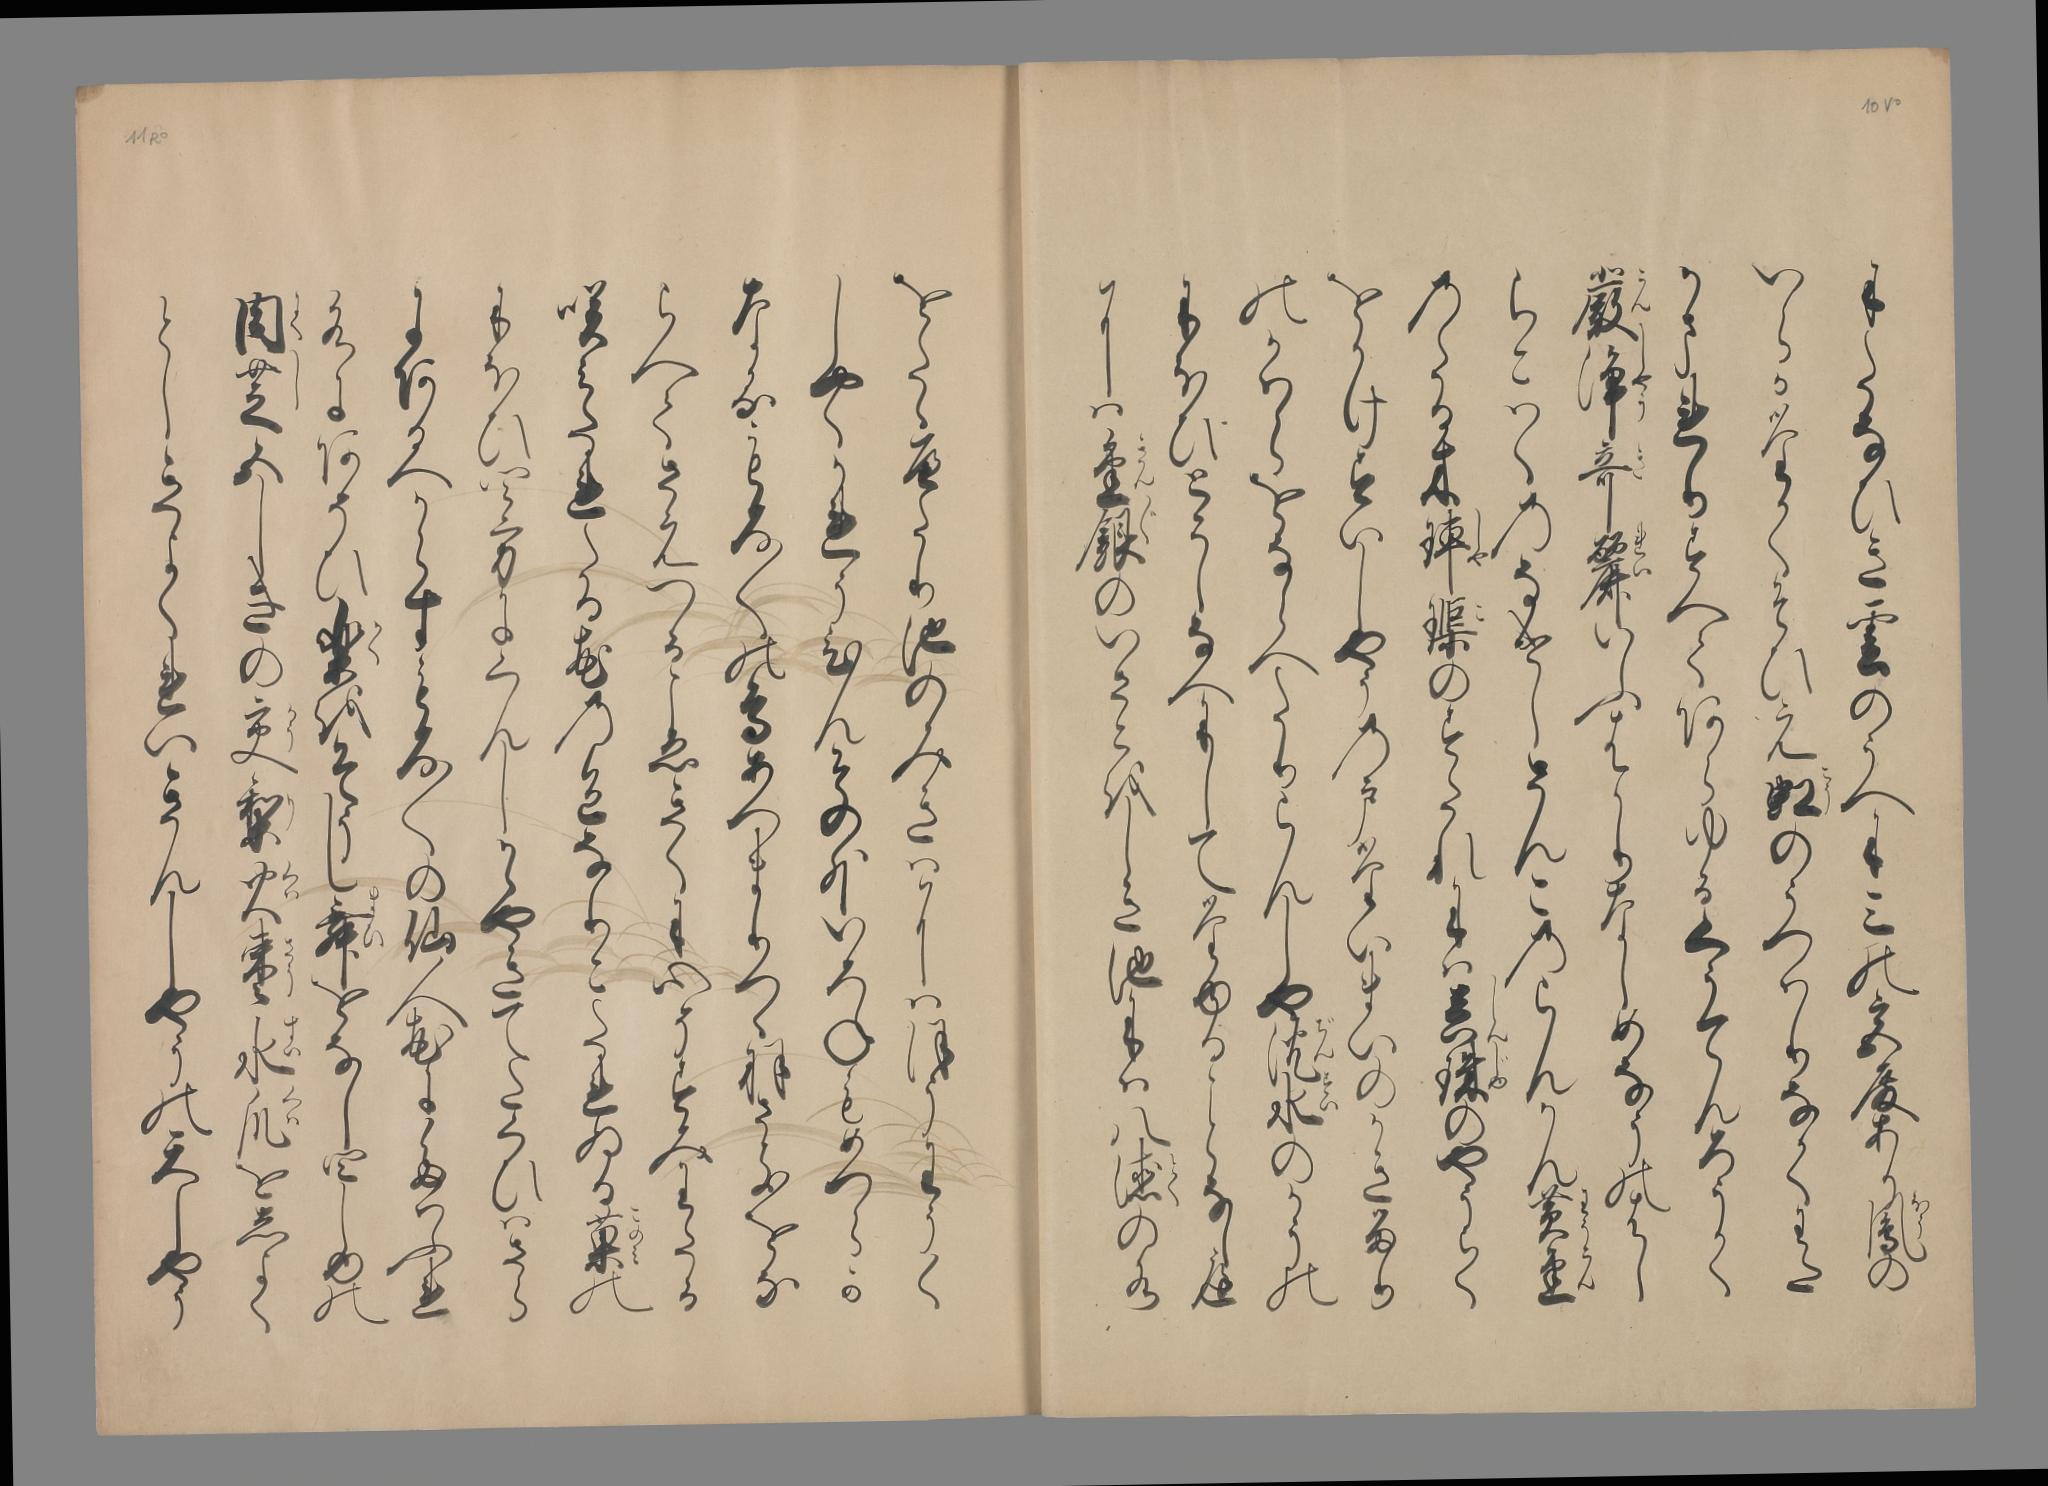MainZone-Character: (1565, 327, 1655, 432), (315, 880, 396, 979), (226, 693, 308, 777), (234, 351, 313, 439), (219, 1004, 305, 1084), (231, 1084, 312, 1162), (226, 777, 302, 858), (1078, 497, 1159, 572), (1576, 262, 1652, 340), (1582, 520, 1649, 609), (1255, 1017, 1344, 1084), (1107, 1135, 1188, 1208), (1081, 434, 1159, 509), (571, 1202, 649, 1276), (234, 923, 308, 1001), (304, 610, 390, 677), (227, 284, 312, 350), (1859, 1189, 1932, 1263), (234, 857, 307, 927), (1434, 1041, 1514, 1105), (1256, 1074, 1342, 1133), (1579, 434, 1647, 507), (1434, 974, 1507, 1041), (1417, 588, 1487, 656), (1760, 764, 1835, 828), (1415, 510, 1490, 571), (1528, 1189, 1596, 1252), (1536, 1251, 1601, 1310)
MainZone-Ruby: (353, 884, 391, 954), (273, 1006, 305, 1070), (623, 1203, 650, 1278), (1627, 335, 1649, 424), (1129, 432, 1161, 494), (281, 351, 308, 415), (1484, 974, 1507, 1046), (1906, 1187, 1934, 1244), (1482, 1046, 1512, 1097), (1813, 760, 1840, 815), (1159, 1149, 1186, 1205), (1573, 1184, 1596, 1246), (280, 1090, 310, 1138), (1312, 1017, 1342, 1065), (1135, 496, 1162, 547), (363, 620, 390, 671), (1627, 521, 1650, 579), (278, 699, 302, 757), (1315, 1073, 1347, 1116), (1622, 440, 1652, 485), (286, 281, 308, 342), (1466, 510, 1488, 569), (280, 931, 299, 998), (1628, 265, 1652, 315), (273, 861, 301, 901), (277, 793, 304, 831), (1576, 1251, 1600, 1294), (1471, 594, 1488, 625)
